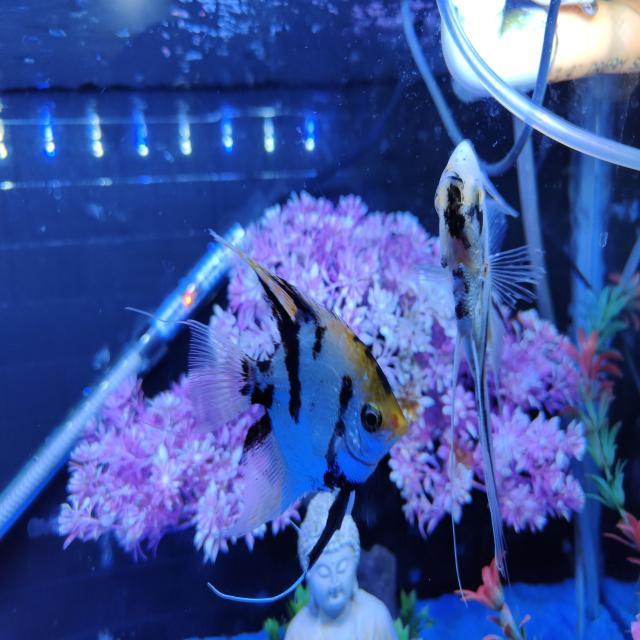Fish: (188, 232, 407, 567), (435, 140, 543, 575)
